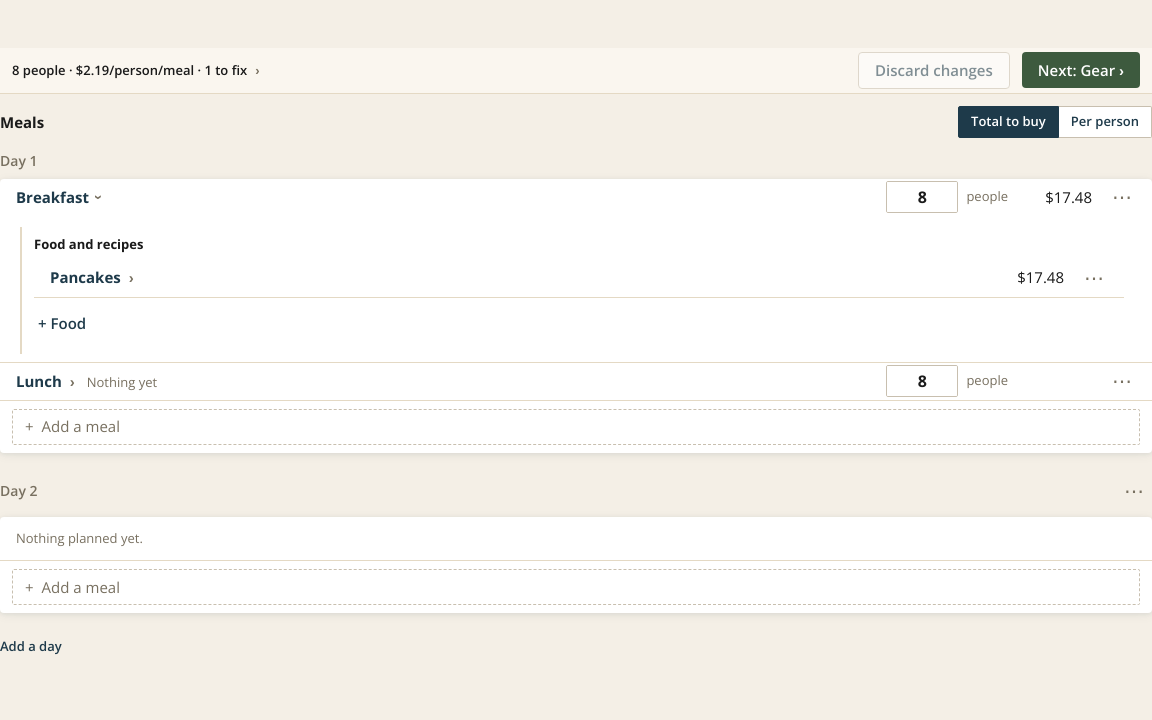
Scenario: MealEditor › ingredient disclosure › List_LabelsADietSwap_ForTheMenusDiets
Click the button "Pancakes ›" at coordinates (92, 278), box [50, 266, 134, 289]
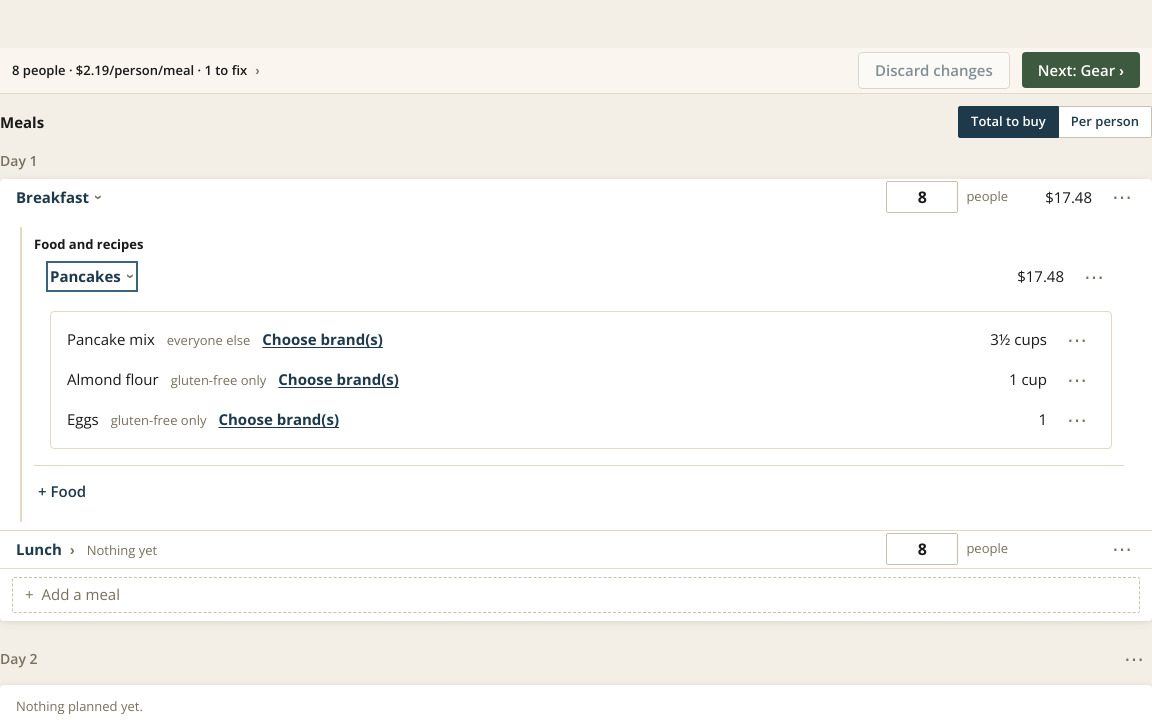
expect the text "gluten-free only" next to "Almond flour" is shown: met, box [171, 371, 266, 389]
